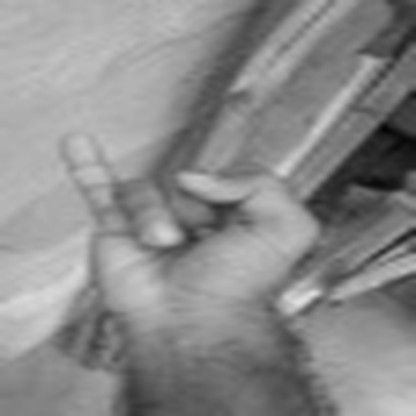i: (35, 100, 318, 311)
